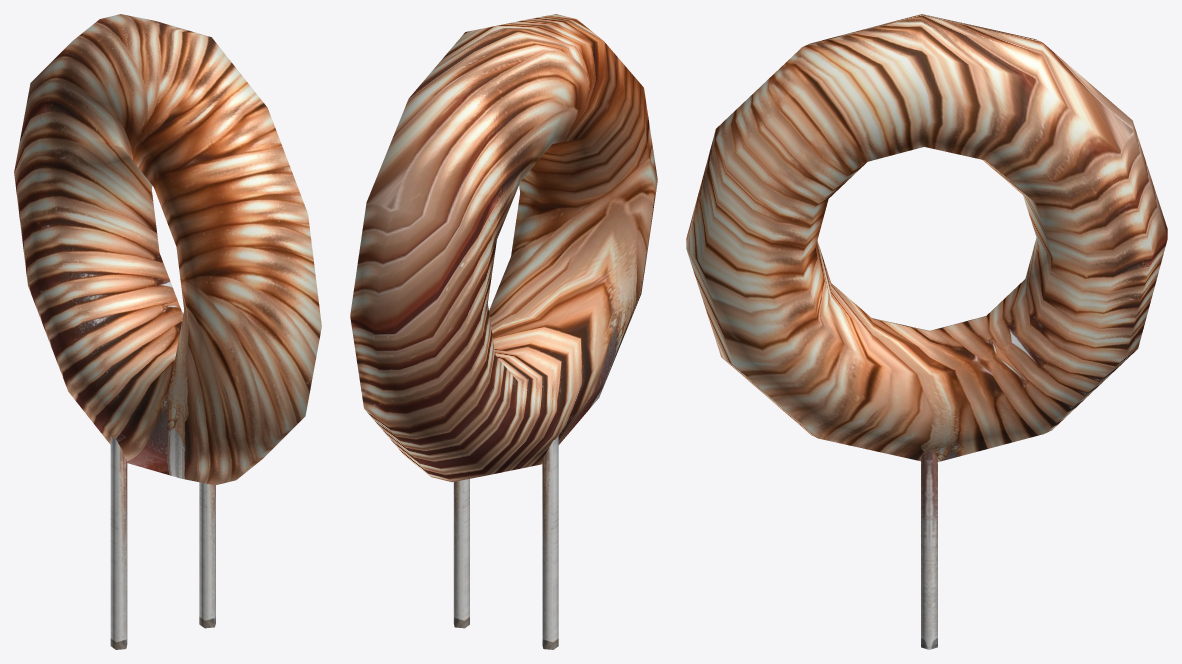
File: inductor.fbx
The picture shows the model from 3 angles, left to right: view 1: azimuth 30°, elevation 25°; view 2: azimuth 150°, elevation 25°; view 3: azimuth 270°, elevation 25°; orthographic projection.
Visible parts, largest first — view 1: Torus; view 2: Torus; view 3: Torus.
Boxes of the visible parts, left/top/right/bottom form: Torus: left=14, top=14, right=321, bottom=649; Torus: left=350, top=14, right=657, bottom=649; Torus: left=686, top=14, right=1167, bottom=649.
Size of the model in its own units: 23.3 by 117 by 84.5.
